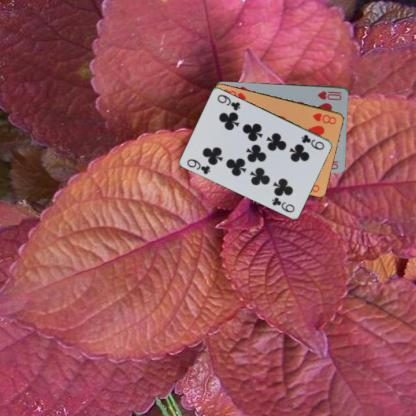10h: (316, 88, 344, 102)
8h: (310, 110, 338, 126)
9c: (184, 156, 212, 176), (299, 132, 326, 152)
